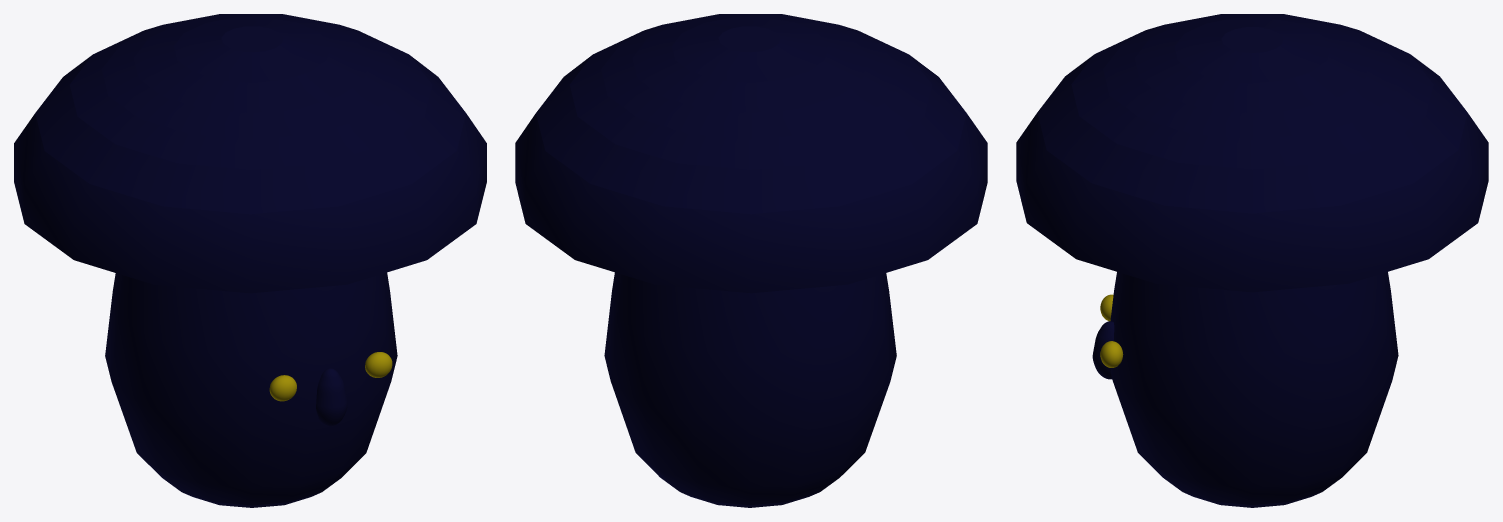
The model's file is Mushroom.fbx.
3 renders of one model, left to right at view 1: azimuth 30°, elevation 25°; view 2: azimuth 150°, elevation 25°; view 3: azimuth 270°, elevation 25°, orthographic.
Parts seen in each view (by area): view 1: Mushroom2; view 2: Mushroom2; view 3: Mushroom2.
Part boxes in pixels (box(x1,y1,x2,y2)): Mushroom2: box(14, 14, 486, 507); Mushroom2: box(515, 14, 987, 507); Mushroom2: box(1016, 14, 1488, 507).
Size of the model in its own units: 5.42 by 5.54 by 5.45.
